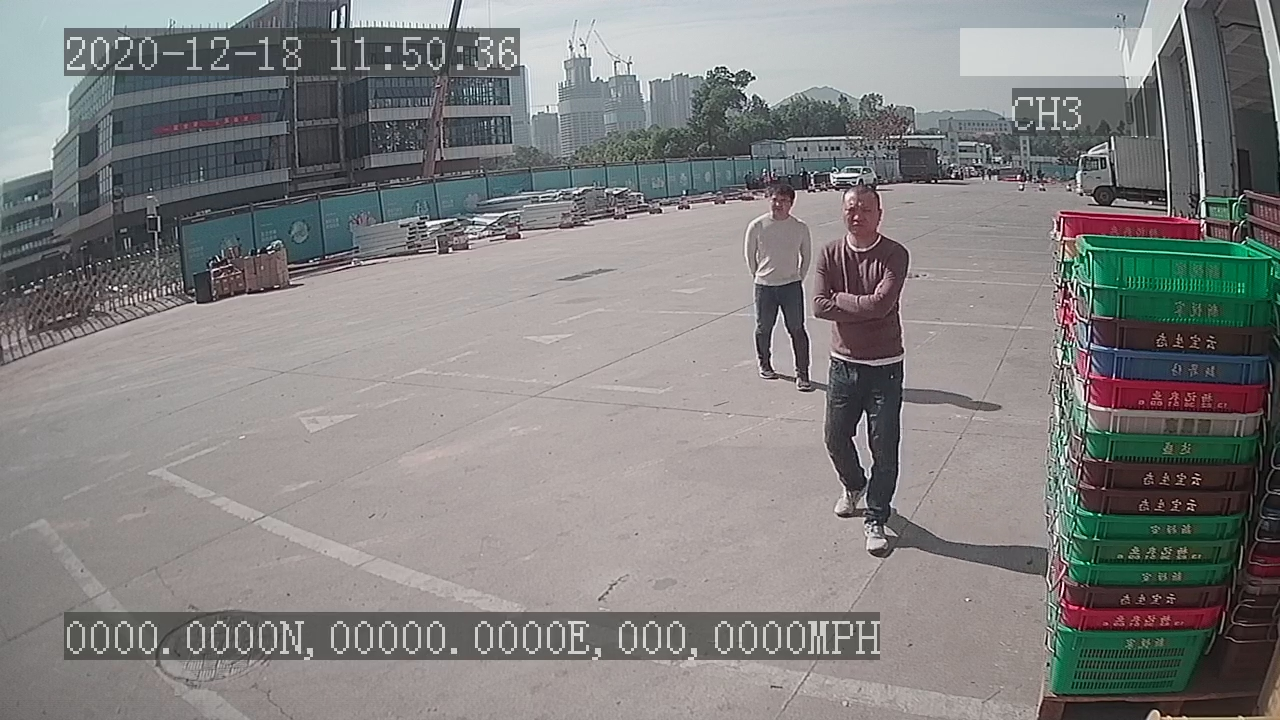person: (808, 179, 918, 563)
